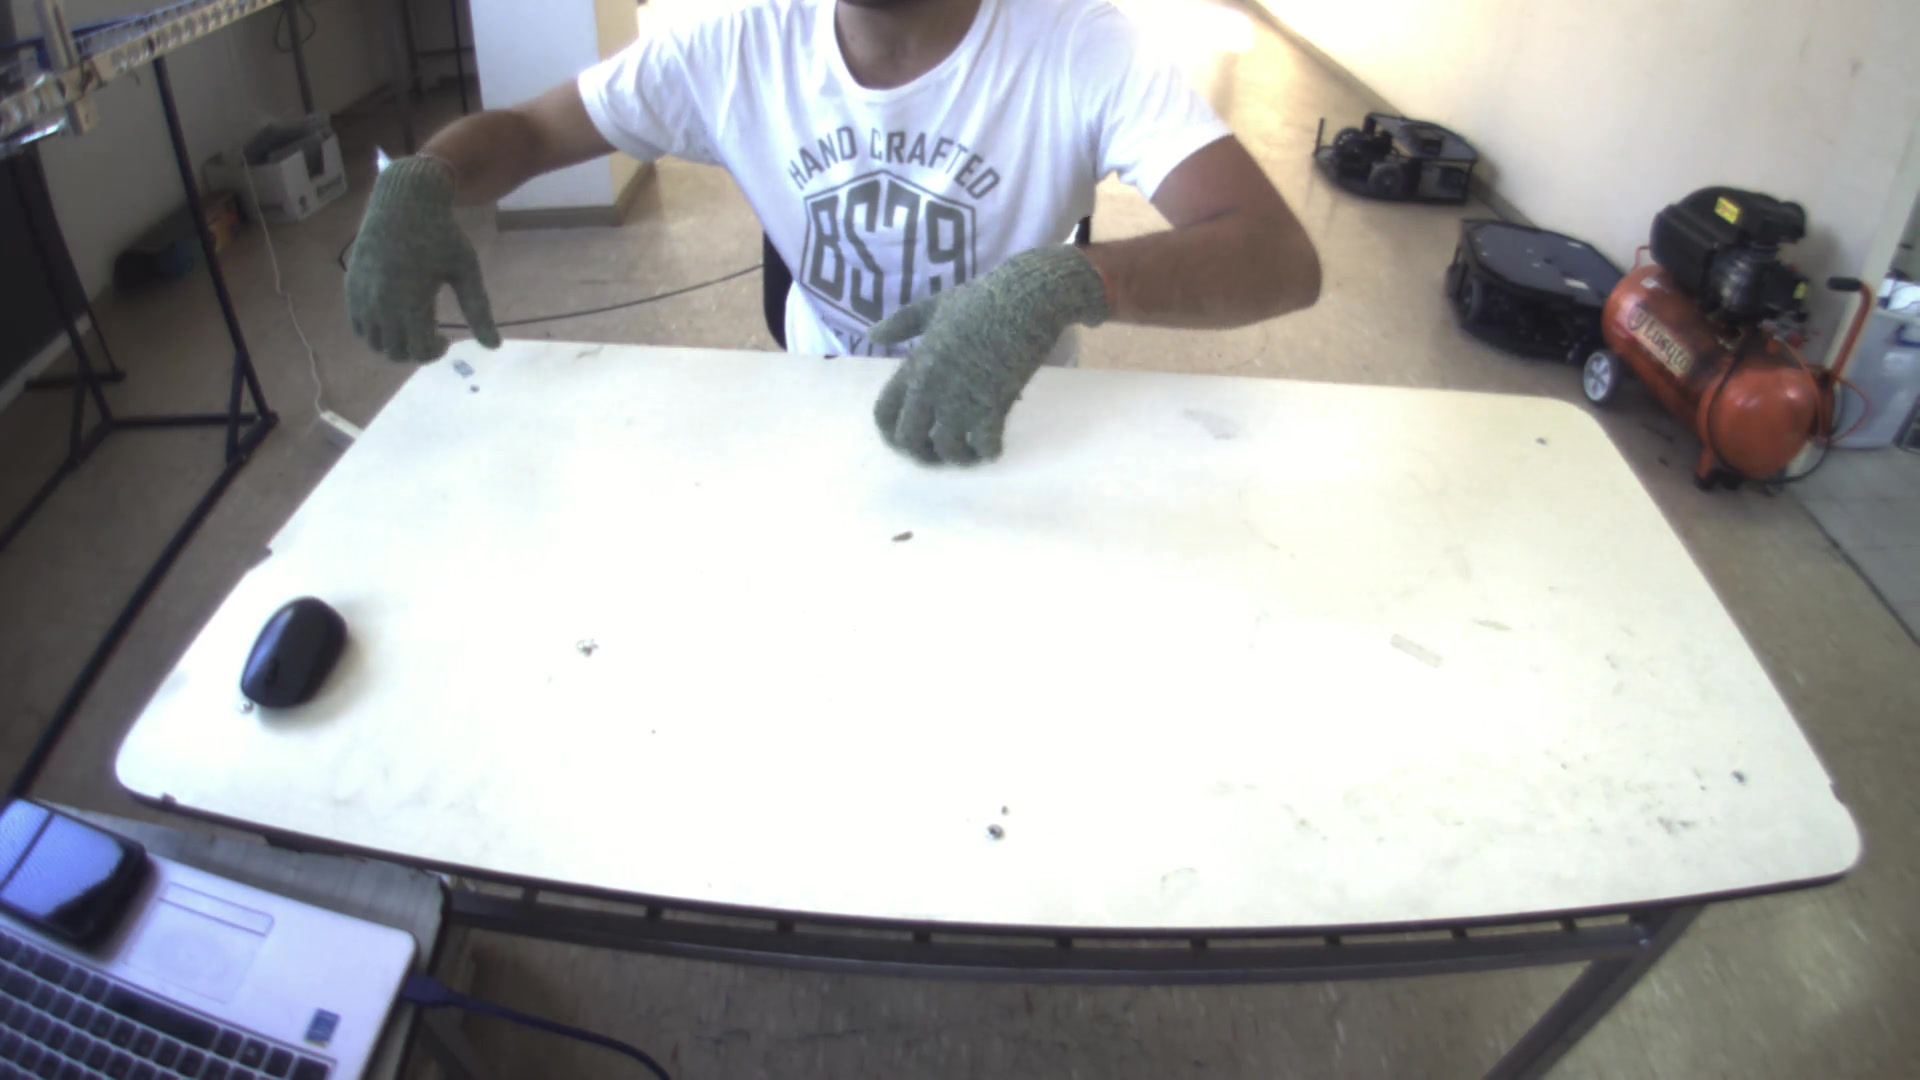hand: (847, 237, 1120, 468), (320, 150, 504, 367)
